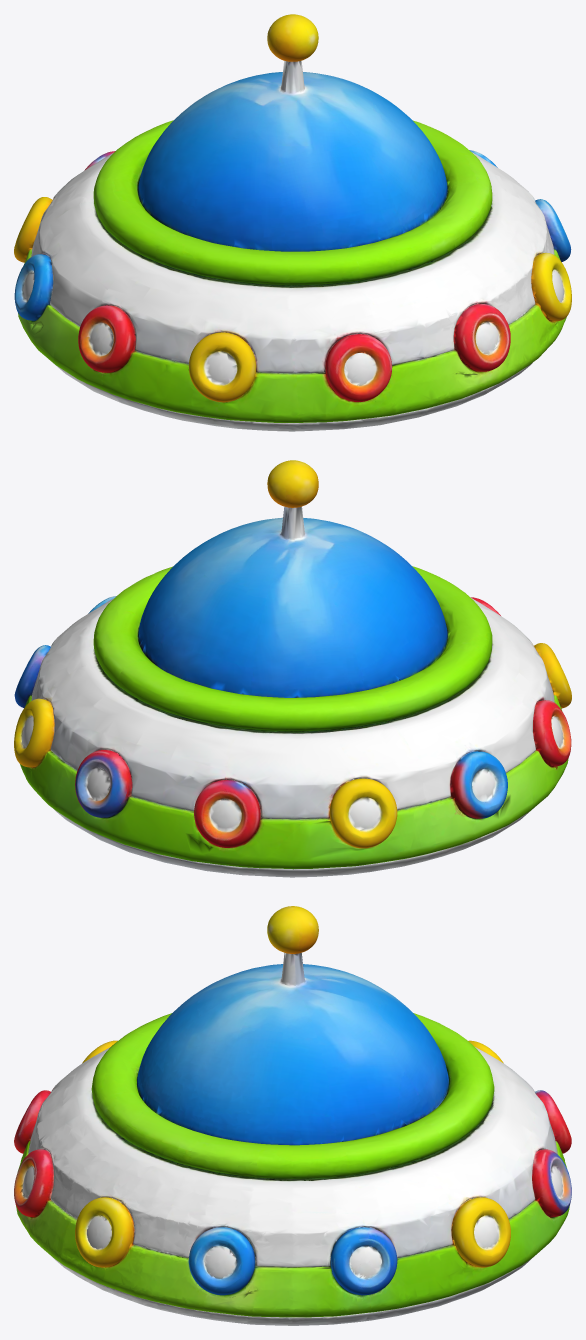
The model's file is ovni-3d.glb.
The picture shows the model from 3 angles, top to bottom: view 1: azimuth 30°, elevation 25°; view 2: azimuth 150°, elevation 25°; view 3: azimuth 270°, elevation 25°; orthographic projection.
Visible parts, largest first — view 1: tripo_node_63db34e3-d0b9-44fe-849b-46e32ade2b68; view 2: tripo_node_63db34e3-d0b9-44fe-849b-46e32ade2b68; view 3: tripo_node_63db34e3-d0b9-44fe-849b-46e32ade2b68.
Part boxes in pixels (left/top/right/bottom): tripo_node_63db34e3-d0b9-44fe-849b-46e32ade2b68: left=14, top=14, right=571, bottom=431; tripo_node_63db34e3-d0b9-44fe-849b-46e32ade2b68: left=14, top=460, right=571, bottom=877; tripo_node_63db34e3-d0b9-44fe-849b-46e32ade2b68: left=14, top=906, right=571, bottom=1325.
Size of the model in its own units: 0.979 by 0.6875 by 0.9786.
1 material, 1 textured.
